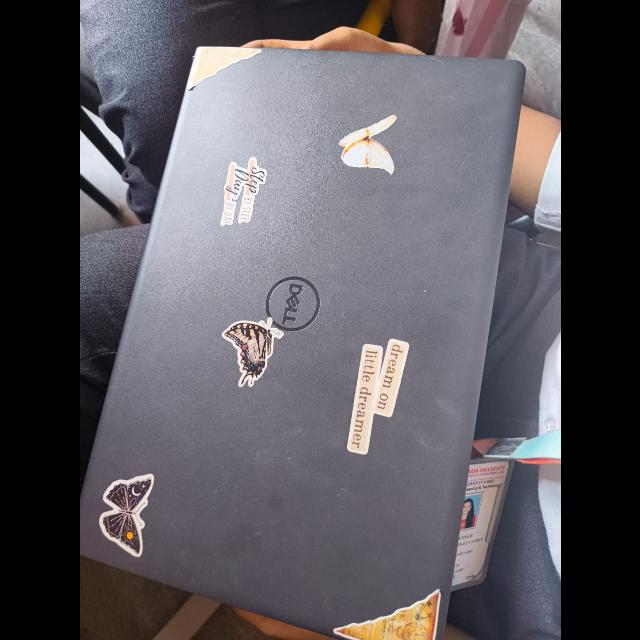laptop: (79, 0, 531, 626)
